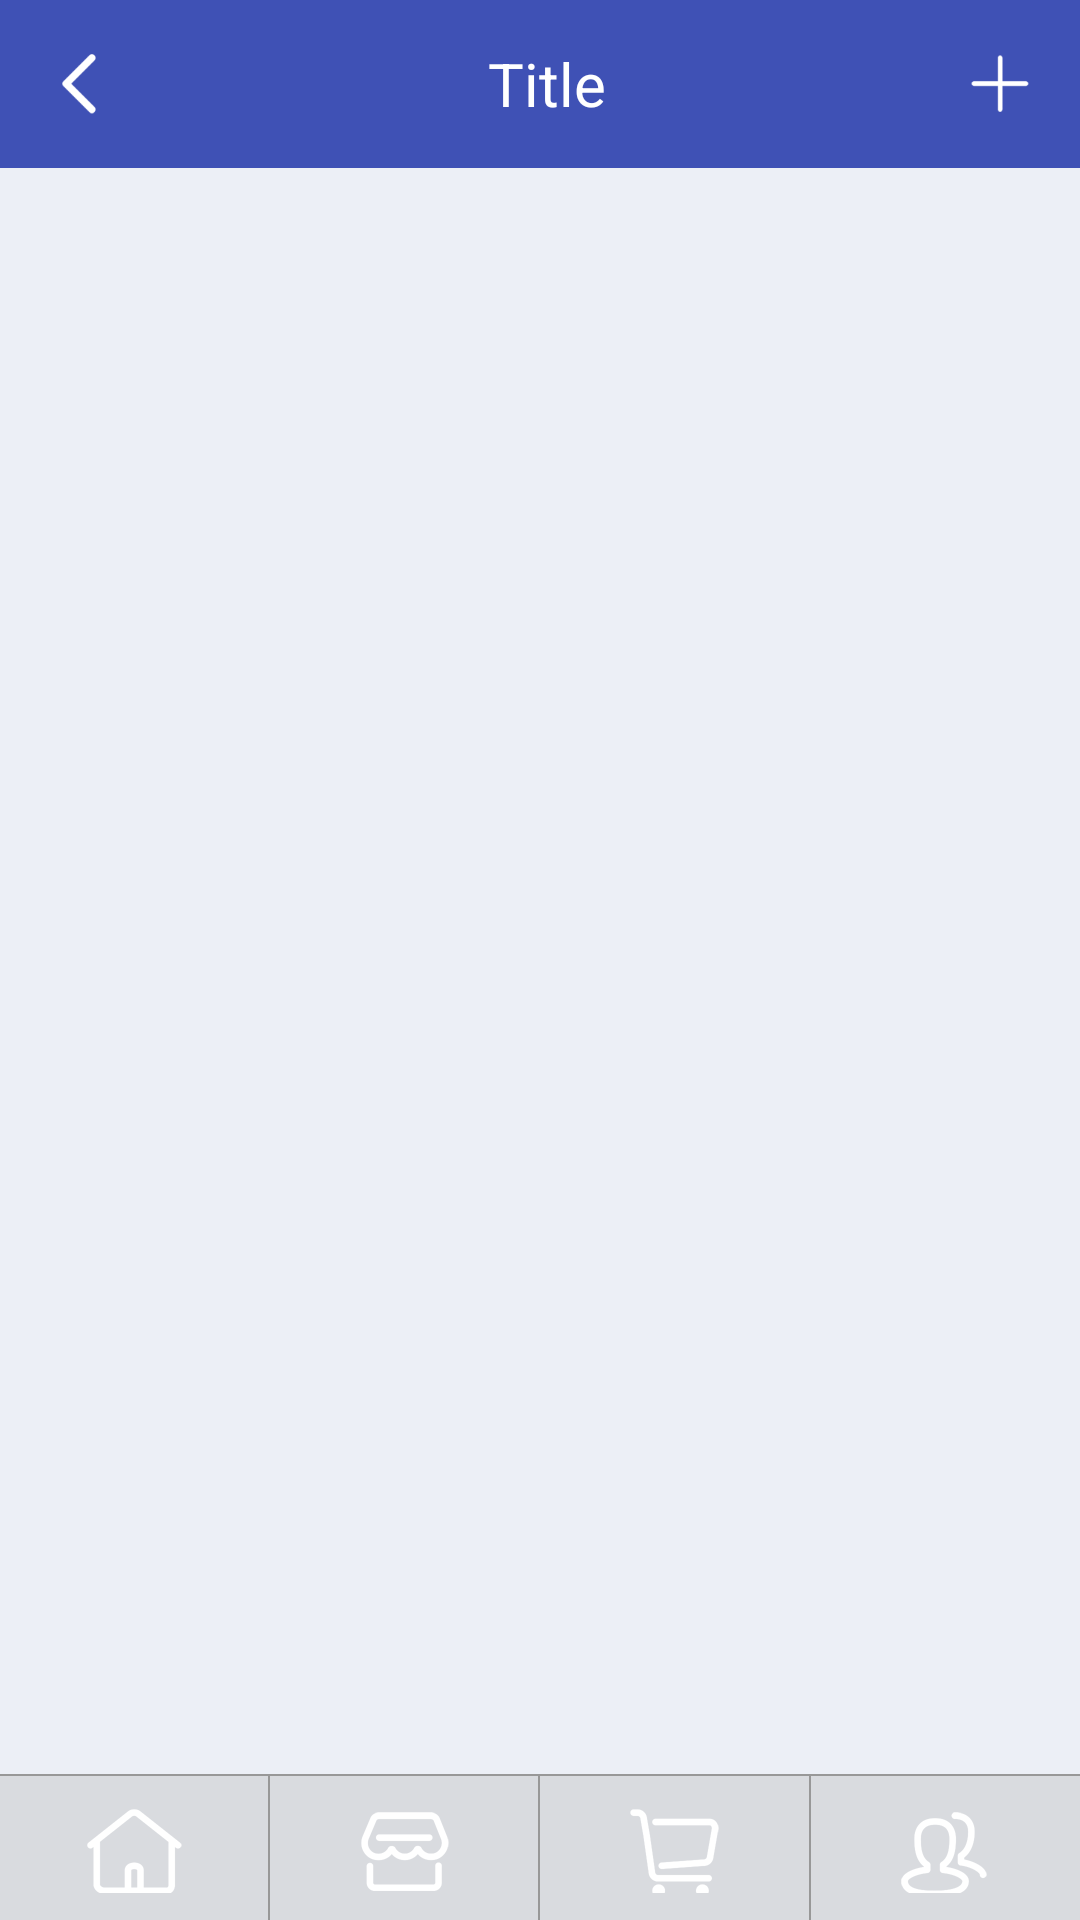

Point at icon controls on the screen. Image size 1080 × 1920, points as (x=x, y=y).
back: (x=79, y=84)
